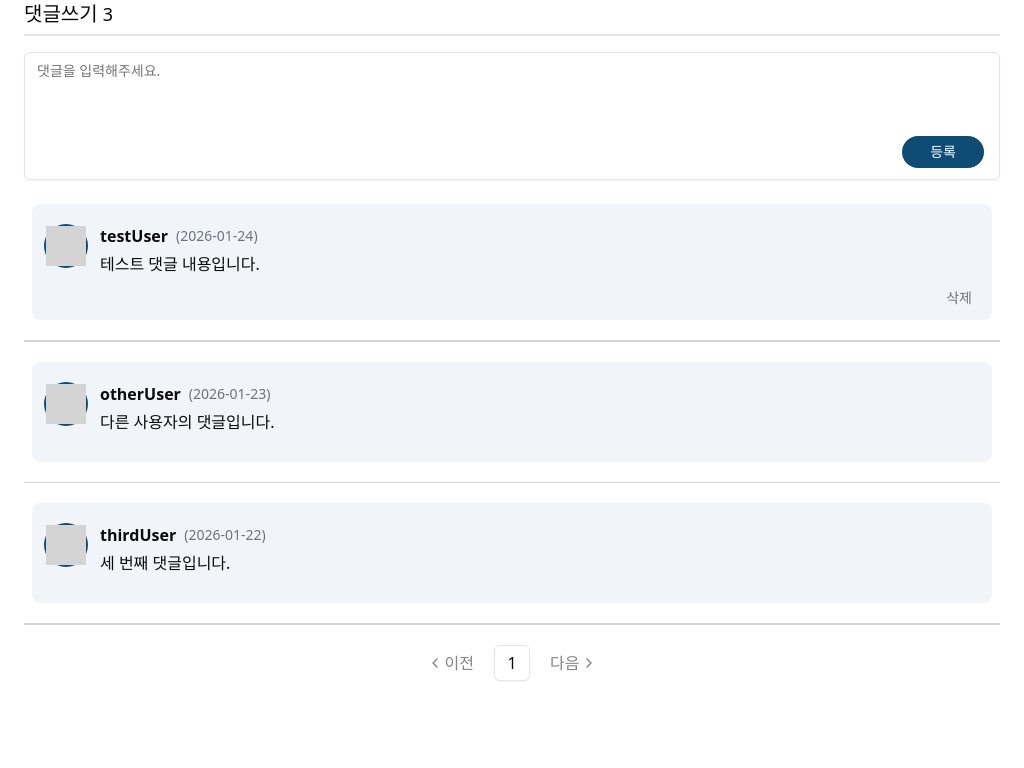
Test: src/features/review/comments/ui/Comments.tsx › 통합 테스트 › 댓글 삭제 › 사용자가 작성한 댓글을 포함한 3개의 리스트에서 댓글을 삭제하면 즉시 2개의 댓글이 표시된다.
The width and height of the screenshot is (1024, 768).
Expected: the link "testUser" is shown, left=100, top=224, right=168, bottom=248
Step 1. Click the button with aria-label "댓글 삭제" → (959, 298), box left=946, top=288, right=972, bottom=308
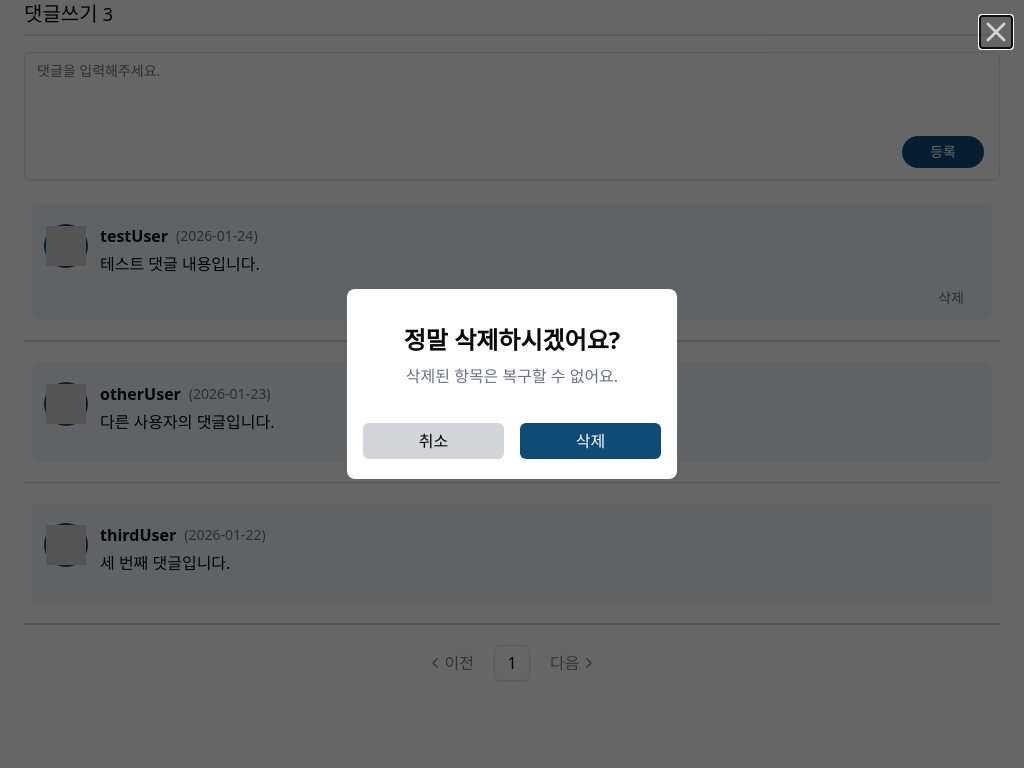
Step 2. Click the button labelled "삭제" → (590, 441), box left=520, top=423, right=661, bottom=459
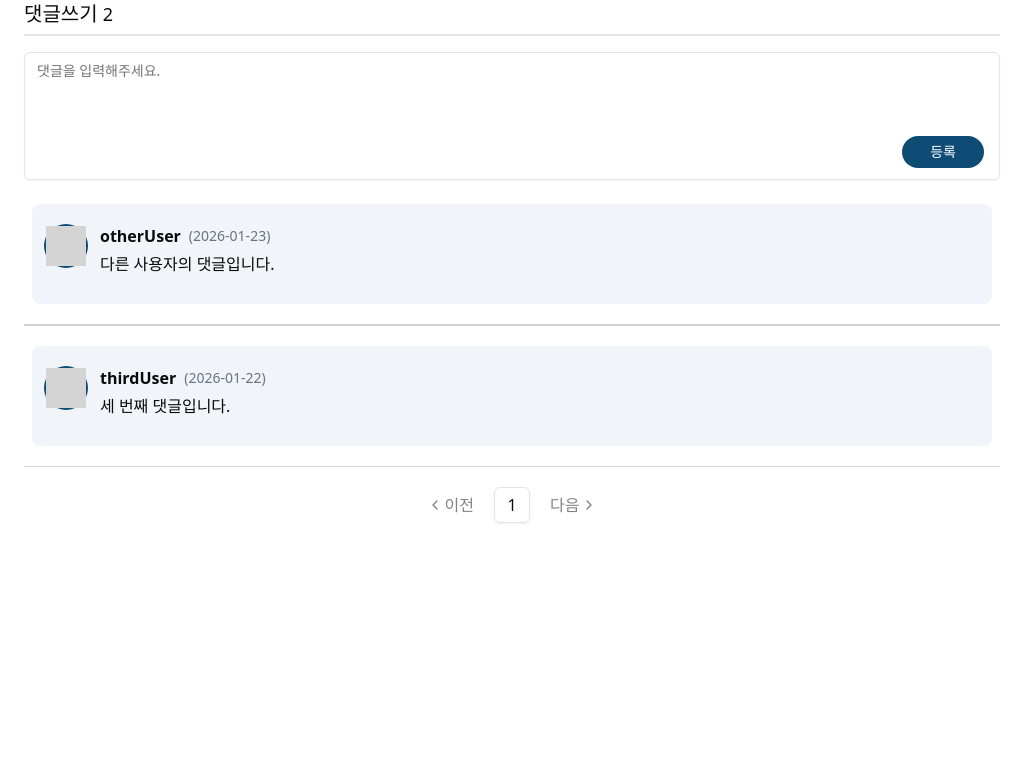
Now the link "testUser" is gone
